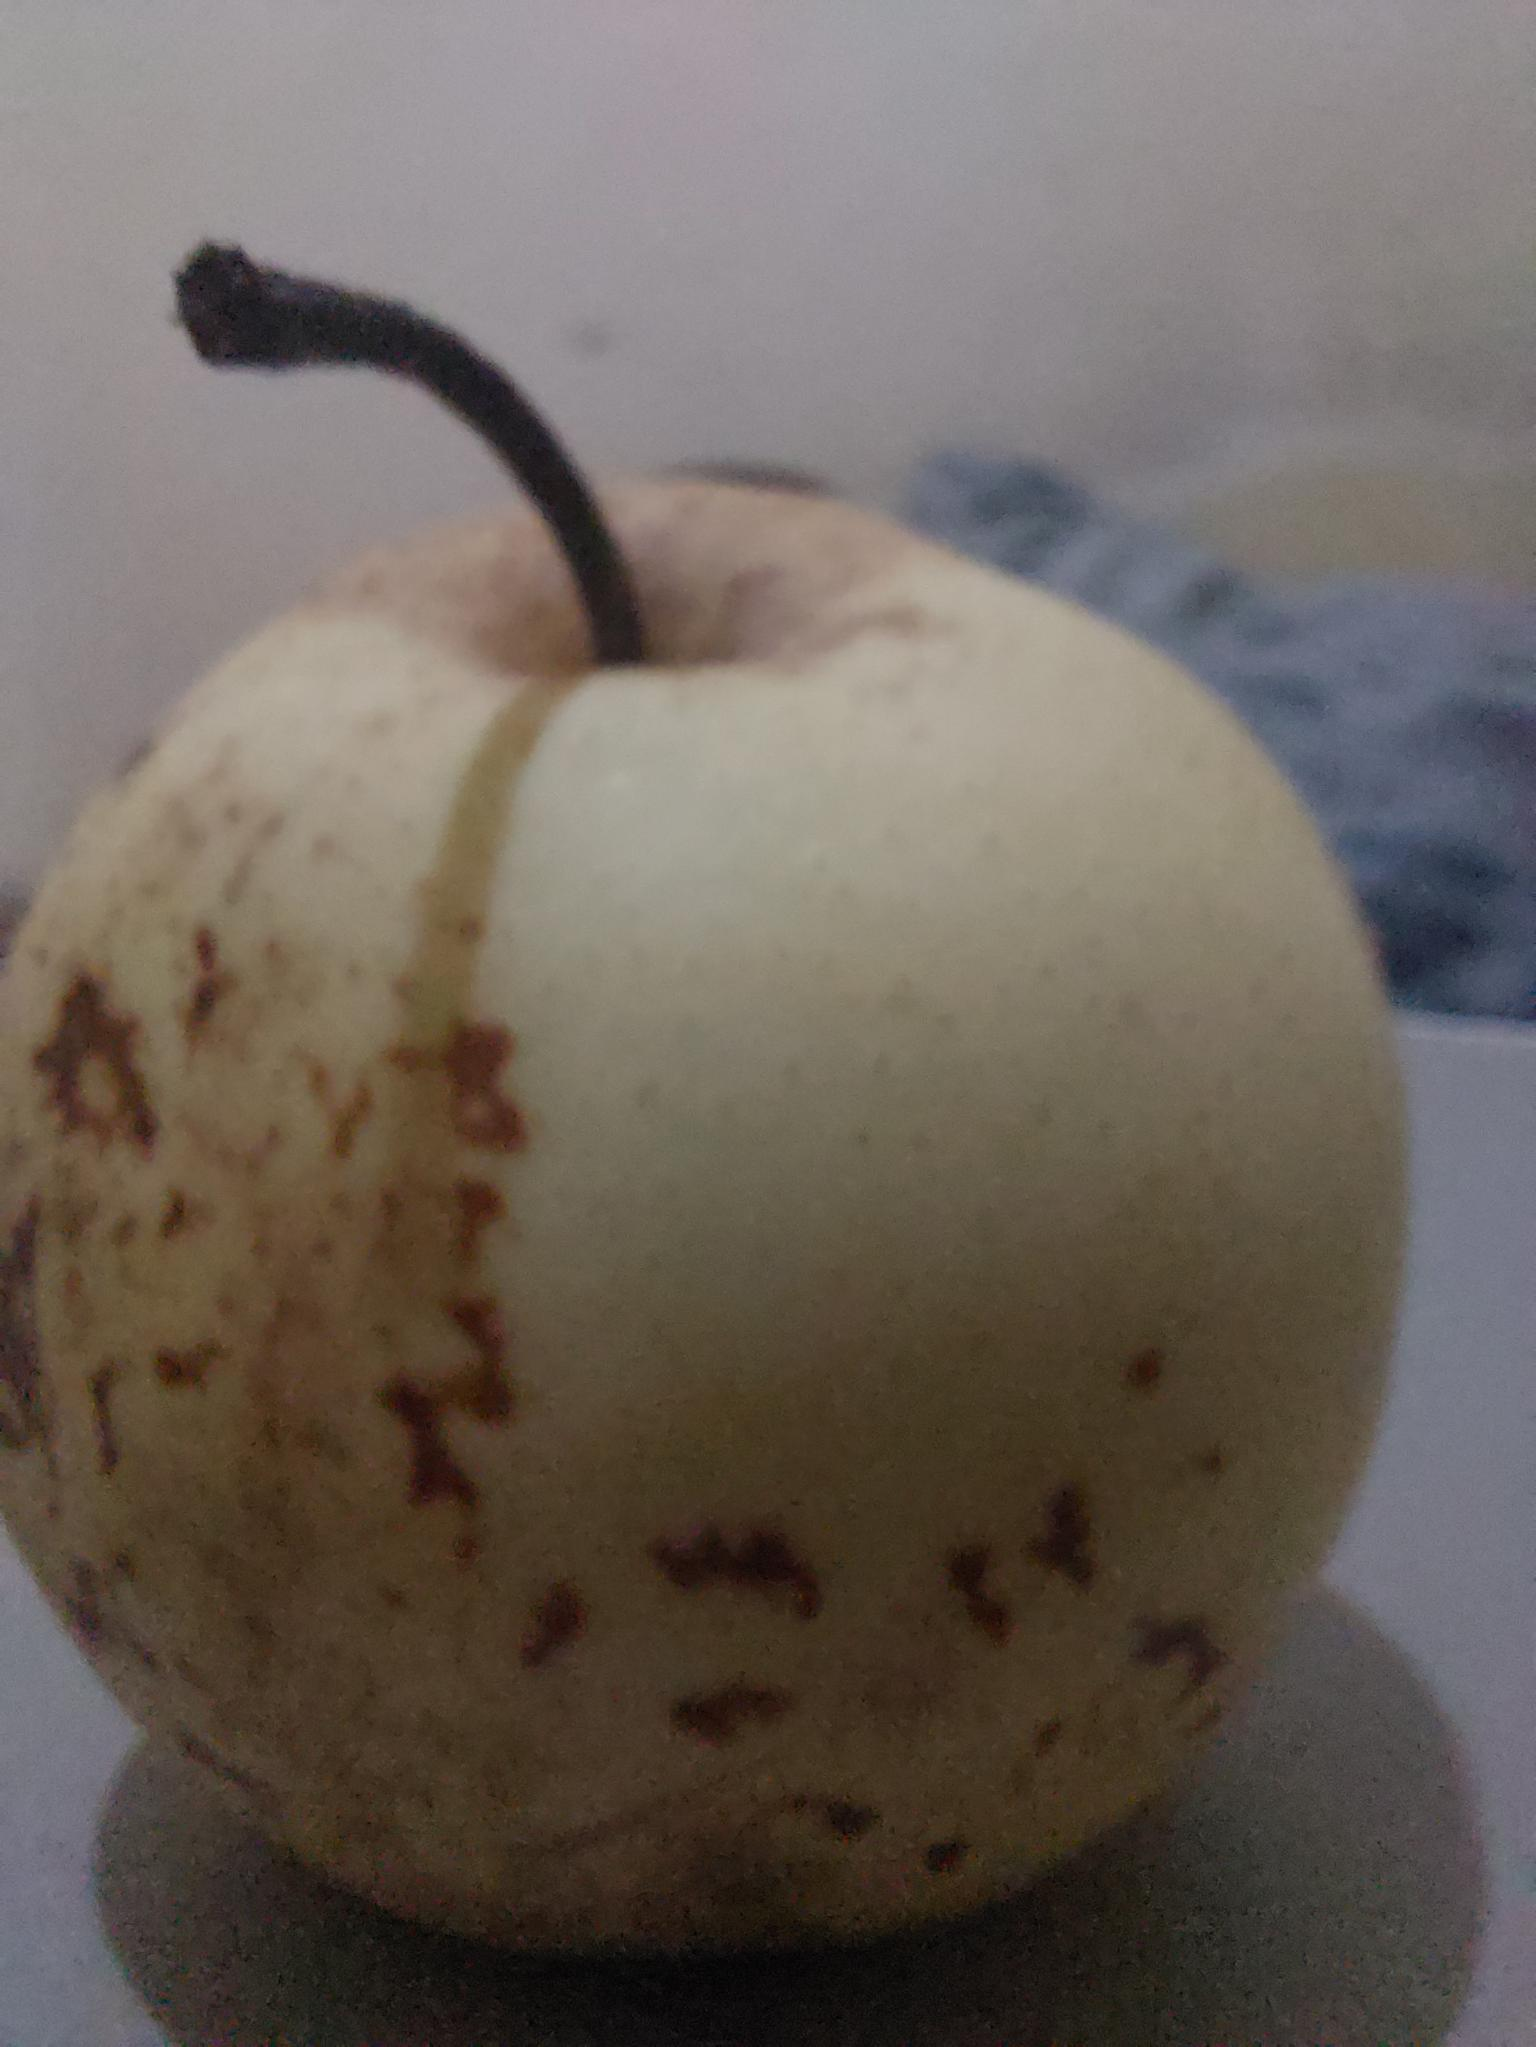Bad Pear: (0, 461, 1450, 1995)
